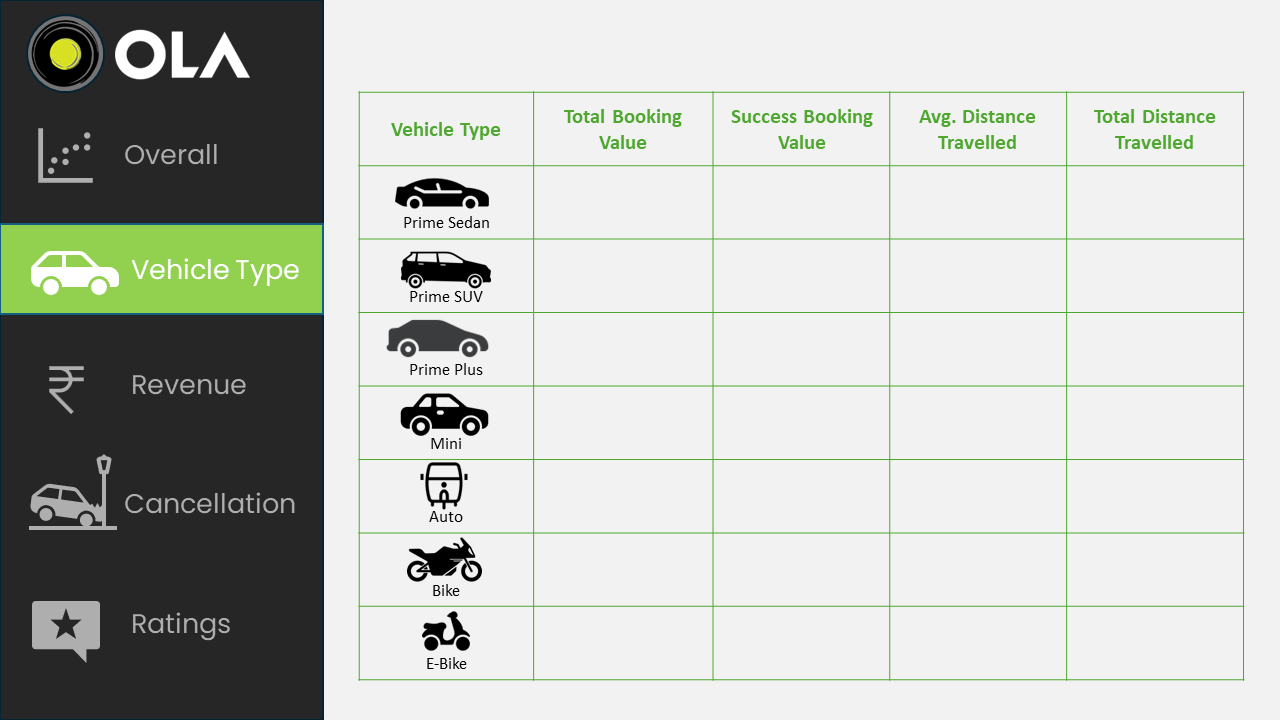

What the dashboard file says about the page in this screenshot:
{"tool":"powerbi","page":{"name":"Vehicle Type","canvas":[1280,720],"ordinal":1},"visuals":[{"type":"actionButton","box":[1.2,337.8,322.1,90.5],"z":0},{"type":"actionButton","box":[0,445.2,322.1,90.5],"z":1000},{"type":"actionButton","box":[1.2,582.7,322.1,90.5],"z":2000},{"type":"actionButton","box":[0,106.2,322.1,90.5],"z":3000},{"type":"card","fields":{"Values":["Sum(July.Booking_Value)"]},"box":[540,168.8,166.2,62.5],"z":4000},{"type":"card","fields":{"Values":["Sum(July.Booking_Value)"]},"box":[540,245,166,62],"z":5000},{"type":"card","fields":{"Values":["Sum(July.Booking_Value)"]},"box":[540,316,167,63],"z":6000},{"type":"card","fields":{"Values":["Sum(July.Booking_Value)"]},"box":[540,391,167,63],"z":7000},{"type":"card","fields":{"Values":["Sum(July.Booking_Value)"]},"box":[541,463,167,63],"z":8000},{"type":"card","fields":{"Values":["Sum(July.Booking_Value)"]},"box":[541,537,167,63],"z":9000},{"type":"card","fields":{"Values":["Sum(July.Booking_Value)"]},"box":[541,610,167,63],"z":10000},{"type":"card","fields":{"Values":["Sum(July.Booking_Value)"]},"box":[717.1,168.6,165.7,62.9],"z":11000},{"type":"card","fields":{"Values":["Sum(July.Booking_Value)"]},"box":[718.8,245,165,62.5],"z":12000},{"type":"card","fields":{"Values":["Sum(July.Booking_Value)"]},"box":[718.8,316.2,165,62.5],"z":13000},{"type":"card","fields":{"Values":["Sum(July.Booking_Value)"]},"box":[718.8,391.2,165,62.5],"z":14000},{"type":"card","fields":{"Values":["Sum(July.Booking_Value)"]},"box":[718.8,462.5,165,62.5],"z":15000},{"type":"card","fields":{"Values":["Sum(July.Booking_Value)"]},"box":[718.8,537.5,165,62.5],"z":16000},{"type":"card","fields":{"Values":["Sum(July.Booking_Value)"]},"box":[718.8,610,165,62.5],"z":17000},{"type":"card","fields":{"Values":["Avg(July.Ride_Distance)"]},"box":[895,168.8,165,62.5],"z":18000},{"type":"card","fields":{"Values":["Sum(July.Ride_Distance)"]},"box":[1072.5,168.8,165,62.5],"z":19000},{"type":"card","fields":{"Values":["Avg(July.Ride_Distance)"]},"box":[895,245,165,62.5],"z":20000},{"type":"card","fields":{"Values":["Sum(July.Ride_Distance)"]},"box":[1072.5,245,165,62.5],"z":21000},{"type":"card","fields":{"Values":["Avg(July.Ride_Distance)"]},"box":[895,316.2,165,62.5],"z":22000},{"type":"card","fields":{"Values":["Sum(July.Ride_Distance)"]},"box":[1072.5,316.2,165,62.5],"z":23000},{"type":"card","fields":{"Values":["Avg(July.Ride_Distance)"]},"box":[895,391.2,165,62.5],"z":24000},{"type":"card","fields":{"Values":["Sum(July.Ride_Distance)"]},"box":[1072.5,391.2,165,62.5],"z":25000},{"type":"card","fields":{"Values":["Avg(July.Ride_Distance)"]},"box":[895,462.5,165,62.5],"z":26000},{"type":"card","fields":{"Values":["Sum(July.Ride_Distance)"]},"box":[1072.5,462.5,165,62.5],"z":27000},{"type":"card","fields":{"Values":["Avg(July.Ride_Distance)"]},"box":[895,537.5,165,62.5],"z":28000},{"type":"card","fields":{"Values":["Sum(July.Ride_Distance)"]},"box":[1072.5,537.5,165,62.5],"z":29000},{"type":"card","fields":{"Values":["Avg(July.Ride_Distance)"]},"box":[895,610,165,62.5],"z":30000},{"type":"card","fields":{"Values":["Sum(July.Ride_Distance)"]},"box":[1072.5,610,165,62.5],"z":31000},{"type":"slicer","title":"Date","fields":{"Values":["July.Date"]},"box":[620,8.6,365.7,72],"z":32000}]}

Visuals, with their boxes on the page's 1280x720 design canvas (x1, y1, x2, y2). These are canvas units, not pixel positions in the 1280x720 screenshot, which may show the page scaled, cropped or inside an application window:
actionButton: <bbox>1, 338, 323, 428</bbox>
actionButton: <bbox>0, 445, 322, 536</bbox>
actionButton: <bbox>1, 583, 323, 673</bbox>
actionButton: <bbox>0, 106, 322, 197</bbox>
card - Sum(July.Booking_Value): <bbox>540, 169, 706, 231</bbox>
card - Sum(July.Booking_Value): <bbox>540, 245, 706, 307</bbox>
card - Sum(July.Booking_Value): <bbox>540, 316, 707, 379</bbox>
card - Sum(July.Booking_Value): <bbox>540, 391, 707, 454</bbox>
card - Sum(July.Booking_Value): <bbox>541, 463, 708, 526</bbox>
card - Sum(July.Booking_Value): <bbox>541, 537, 708, 600</bbox>
card - Sum(July.Booking_Value): <bbox>541, 610, 708, 673</bbox>
card - Sum(July.Booking_Value): <bbox>717, 169, 883, 232</bbox>
card - Sum(July.Booking_Value): <bbox>719, 245, 884, 308</bbox>
card - Sum(July.Booking_Value): <bbox>719, 316, 884, 379</bbox>
card - Sum(July.Booking_Value): <bbox>719, 391, 884, 454</bbox>
card - Sum(July.Booking_Value): <bbox>719, 462, 884, 525</bbox>
card - Sum(July.Booking_Value): <bbox>719, 538, 884, 600</bbox>
card - Sum(July.Booking_Value): <bbox>719, 610, 884, 672</bbox>
card - Avg(July.Ride_Distance): <bbox>895, 169, 1060, 231</bbox>
card - Sum(July.Ride_Distance): <bbox>1072, 169, 1238, 231</bbox>
card - Avg(July.Ride_Distance): <bbox>895, 245, 1060, 308</bbox>
card - Sum(July.Ride_Distance): <bbox>1072, 245, 1238, 308</bbox>
card - Avg(July.Ride_Distance): <bbox>895, 316, 1060, 379</bbox>
card - Sum(July.Ride_Distance): <bbox>1072, 316, 1238, 379</bbox>
card - Avg(July.Ride_Distance): <bbox>895, 391, 1060, 454</bbox>
card - Sum(July.Ride_Distance): <bbox>1072, 391, 1238, 454</bbox>
card - Avg(July.Ride_Distance): <bbox>895, 462, 1060, 525</bbox>
card - Sum(July.Ride_Distance): <bbox>1072, 462, 1238, 525</bbox>
card - Avg(July.Ride_Distance): <bbox>895, 538, 1060, 600</bbox>
card - Sum(July.Ride_Distance): <bbox>1072, 538, 1238, 600</bbox>
card - Avg(July.Ride_Distance): <bbox>895, 610, 1060, 672</bbox>
card - Sum(July.Ride_Distance): <bbox>1072, 610, 1238, 672</bbox>
"Date" slicer: <bbox>620, 9, 986, 81</bbox>
